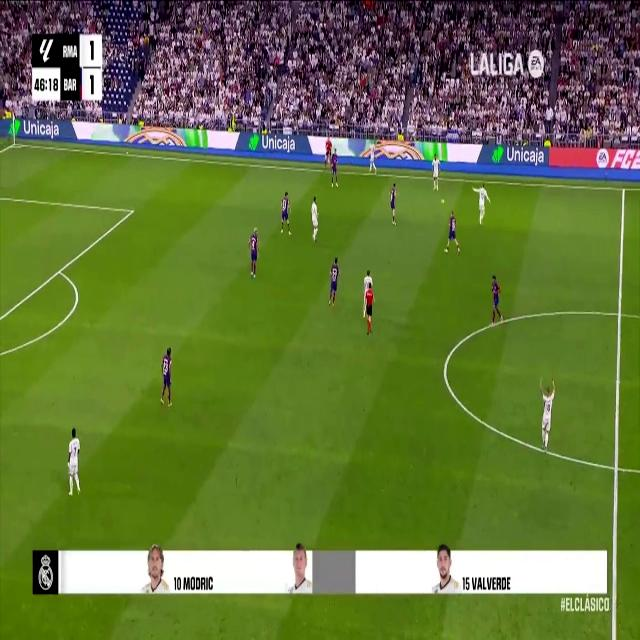bigarea_top_inner: (128, 202, 136, 219)
corner: (10, 138, 20, 149)
halfcircle_bottom: (610, 452, 622, 482)
halfcircle_top: (614, 300, 626, 327)
midline_top_intersection: (620, 182, 628, 198)
top_arc_area_intersection: (55, 262, 63, 278)
